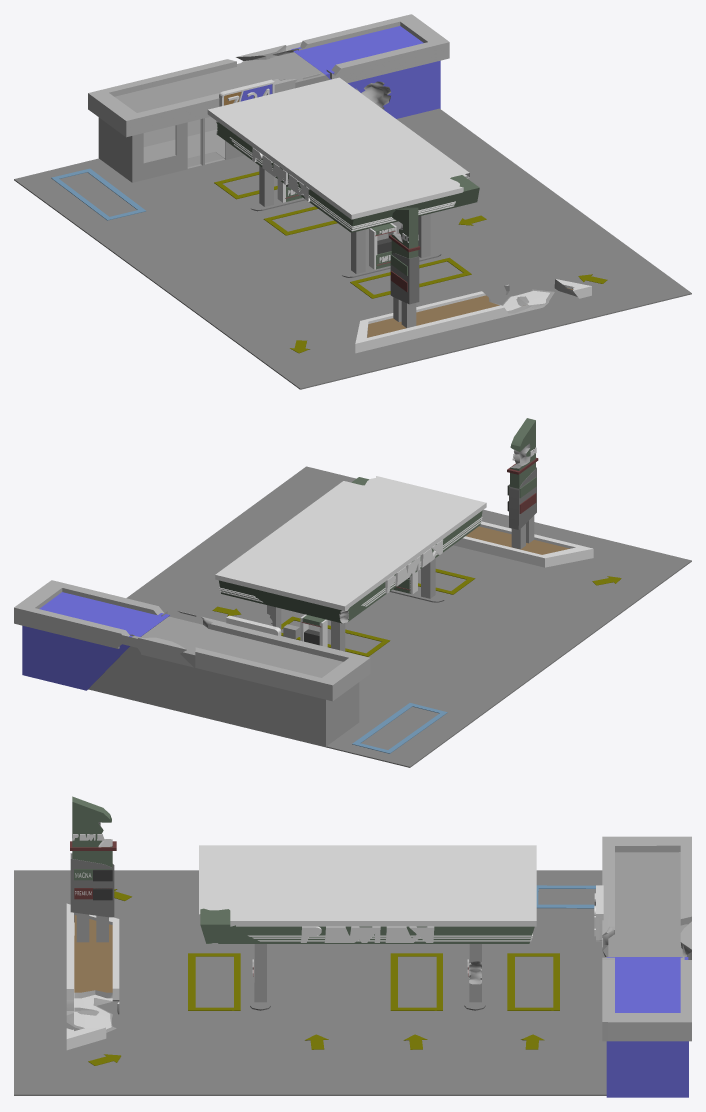
File: gasol 7 24 destru.fbx
The picture shows the model from 3 angles, top to bottom: view 1: azimuth 30°, elevation 25°; view 2: azimuth 150°, elevation 25°; view 3: azimuth 270°, elevation 25°; orthographic projection. The views are drawn at different scales.
Visible parts, largest first — view 1: polySurface33; view 2: polySurface33; view 3: polySurface33.
Boxes of the visible parts, x1,y1,x2,y2 form: polySurface33: [14, 14, 691, 389]; polySurface33: [14, 418, 691, 767]; polySurface33: [14, 796, 691, 1097].
Size of the model in its own units: 9.47 by 3.02 by 11.83.
